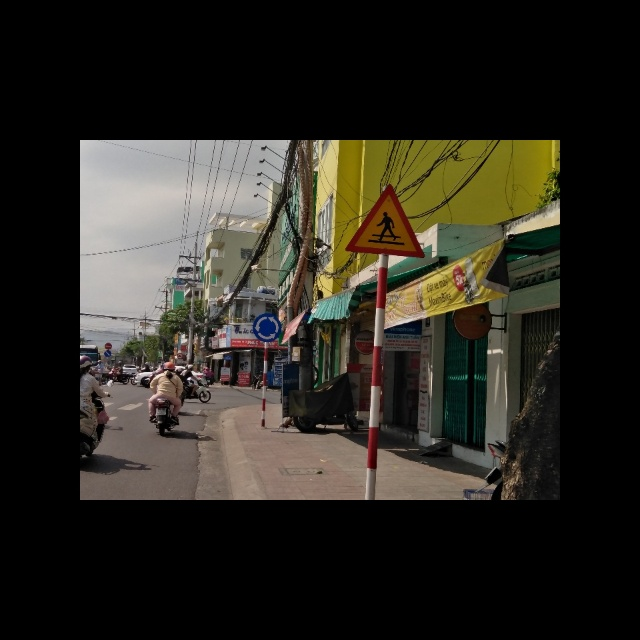Nơi giao nhau chạy theo vòng xuyến: (253, 312, 281, 342)
Đường người đi bộ sang đường: (344, 183, 427, 259)
